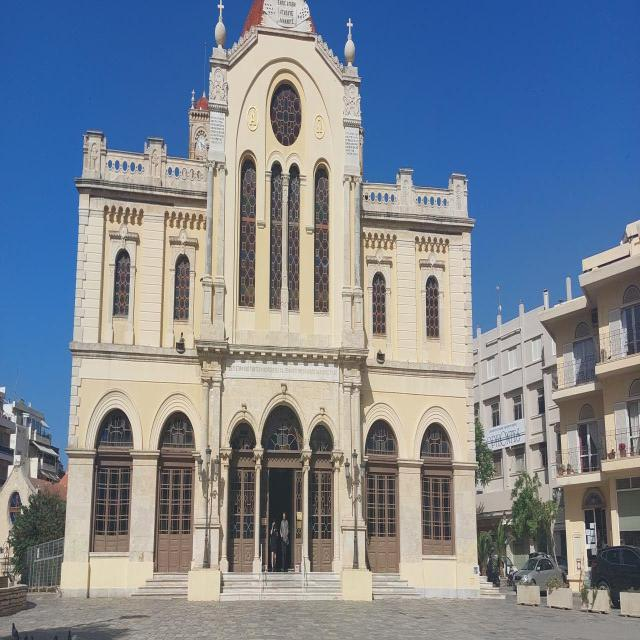Agios Minas: (60, 1, 482, 604)
